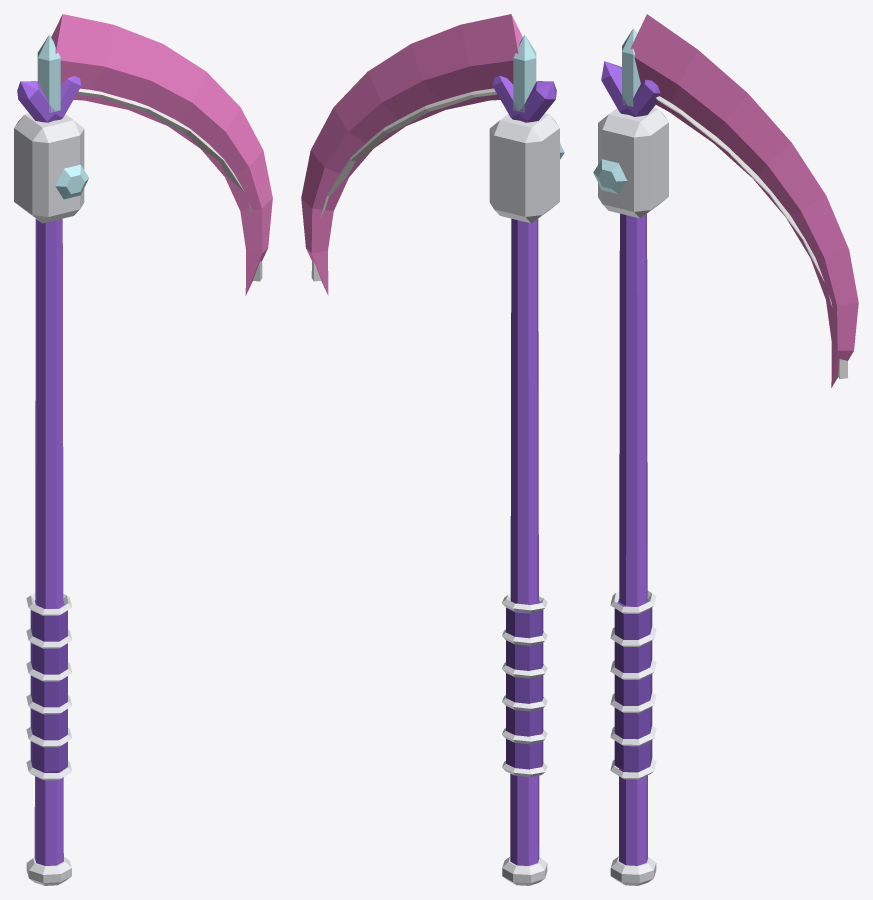
The model's file is CrystalScythe.fbx.
The picture shows the model from 3 angles, left to right: view 1: azimuth 30°, elevation 25°; view 2: azimuth 150°, elevation 25°; view 3: azimuth 330°, elevation 25°; orthographic projection.
Visible parts, largest first — view 1: CrystalScythe; view 2: CrystalScythe; view 3: CrystalScythe.
Part boxes in pixels (x1,y1,x2,y2): CrystalScythe: (14,14,272,885); CrystalScythe: (301,14,564,885); CrystalScythe: (593,14,858,885).
Size of the model in its own units: 1.95 by 6.3 by 0.55.
Materials: 1 (1 with a texture image).
